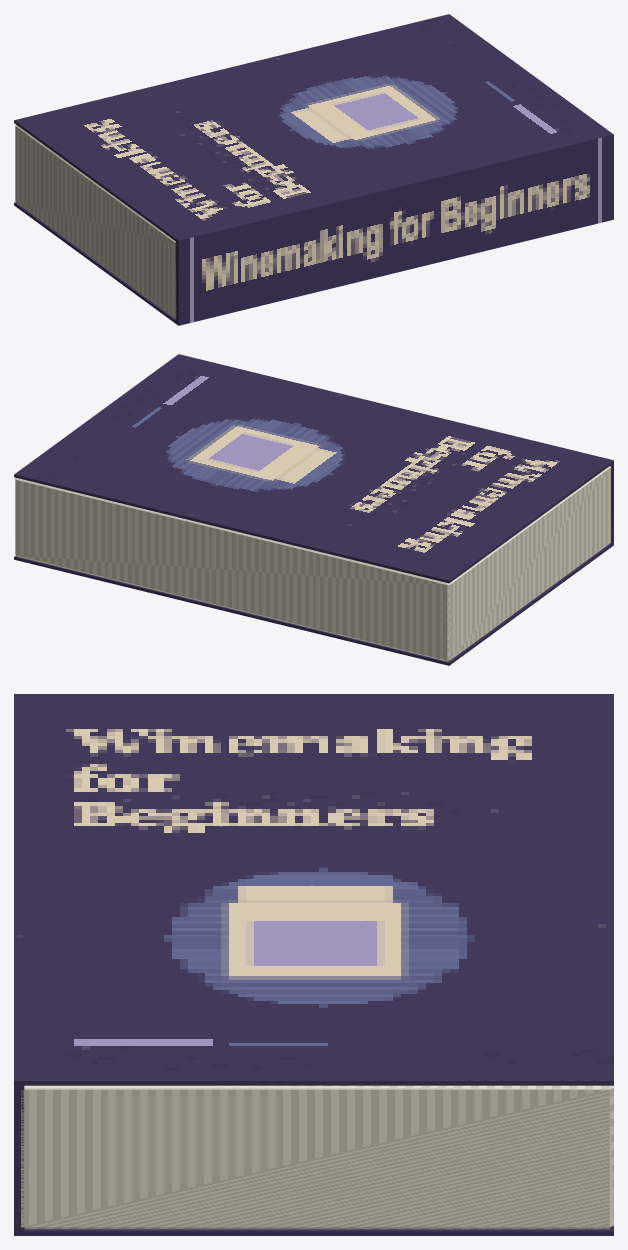
File: winemaking_beginner.glb
The picture shows the model from 3 angles, top to bottom: view 1: azimuth 30°, elevation 25°; view 2: azimuth 150°, elevation 25°; view 3: azimuth 270°, elevation 25°; orthographic projection. The views are drawn at different scales.
Parts seen in each view (by area): view 1: block_front, block_spine, block_pages, block_back; view 2: block_front, block_pages, block_back, block_spine; view 3: block_front, block_pages, block_spine, block_back.
Boxes of the visible parts, <box> form: block_front: <box>14,14,610,242</box>; block_spine: <box>175,132,613,325</box>; block_pages: <box>15,124,176,318</box>; block_back: <box>14,202,177,324</box>; block_front: <box>14,355,613,583</box>; block_pages: <box>15,466,610,661</box>; block_back: <box>14,543,613,665</box>; block_spine: <box>176,354,613,545</box>; block_front: <box>16,694,613,1085</box>; block_pages: <box>21,1085,613,1229</box>; block_spine: <box>14,694,24,1235</box>; block_back: <box>16,1226,613,1235</box>.
Bounding box in the file's own units: 0.247 × 0.0461 × 0.1618.
Materials: 1 (1 with a texture image).
